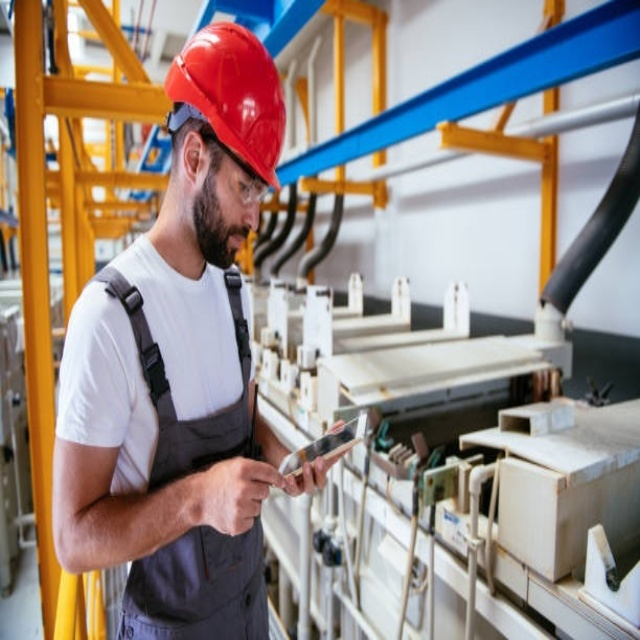Gafas: (201, 129, 273, 205)
Sin_guantes: (202, 456, 291, 537), (278, 423, 341, 499)
Sin_mascara: (225, 216, 256, 267)
